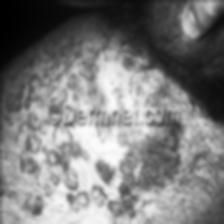Toxin: (94, 126, 178, 224), (41, 15, 128, 102), (0, 94, 47, 220), (0, 52, 42, 90)
